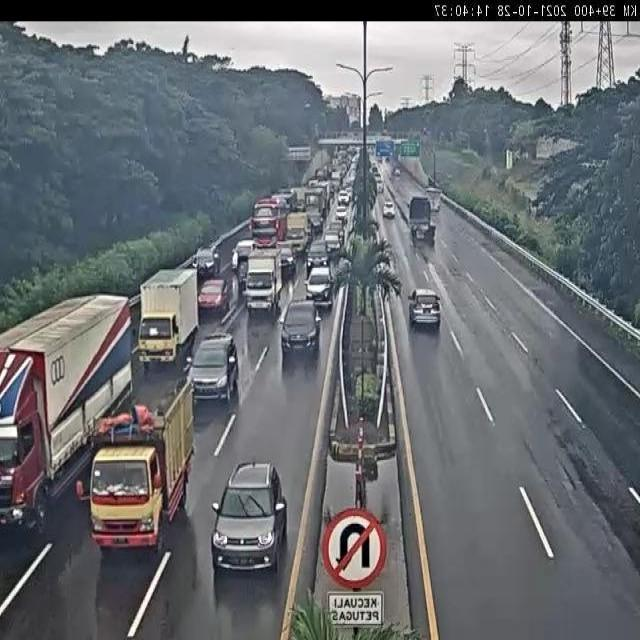Car: (200, 435, 294, 591), (188, 332, 240, 404), (304, 261, 334, 309), (407, 287, 441, 329), (231, 239, 254, 284), (193, 246, 219, 280), (306, 242, 330, 276), (324, 230, 342, 255)
Truck: (0, 297, 134, 538), (80, 383, 193, 553), (92, 527, 184, 634), (0, 356, 49, 534), (139, 267, 202, 370), (243, 246, 285, 318), (278, 298, 320, 366), (335, 276, 355, 378), (251, 197, 288, 248), (408, 195, 436, 244), (198, 278, 230, 320), (285, 210, 311, 255), (152, 384, 184, 418), (353, 464, 373, 512), (290, 186, 317, 216), (307, 183, 329, 217), (359, 447, 379, 483), (278, 245, 296, 279), (380, 245, 398, 278), (201, 331, 232, 349), (254, 196, 281, 216), (270, 192, 292, 213), (286, 146, 312, 162), (393, 200, 408, 227), (335, 160, 350, 186), (336, 256, 352, 279), (308, 212, 324, 235), (317, 137, 353, 147), (357, 147, 371, 171), (374, 259, 390, 278), (349, 152, 360, 179), (335, 202, 349, 222), (328, 179, 341, 200), (393, 138, 409, 155), (315, 166, 330, 182), (338, 189, 352, 206), (383, 200, 396, 218), (370, 163, 380, 186), (307, 179, 321, 195), (278, 187, 292, 203), (579, 160, 602, 169), (210, 239, 222, 256), (374, 175, 384, 194), (196, 233, 206, 252), (230, 248, 238, 271), (346, 179, 356, 197), (305, 254, 313, 276), (330, 170, 342, 184), (336, 130, 356, 138), (367, 136, 378, 150), (349, 116, 360, 130), (428, 176, 440, 188), (389, 150, 399, 164), (433, 197, 442, 212), (366, 144, 376, 157), (348, 146, 358, 159), (371, 216, 379, 232), (411, 227, 418, 245), (506, 149, 512, 170), (375, 159, 383, 174), (313, 122, 319, 142), (409, 289, 417, 302), (376, 152, 385, 162), (391, 161, 398, 173), (191, 256, 198, 268), (422, 126, 430, 136), (394, 169, 401, 177), (446, 174, 453, 182), (382, 129, 389, 136), (385, 155, 391, 162)
